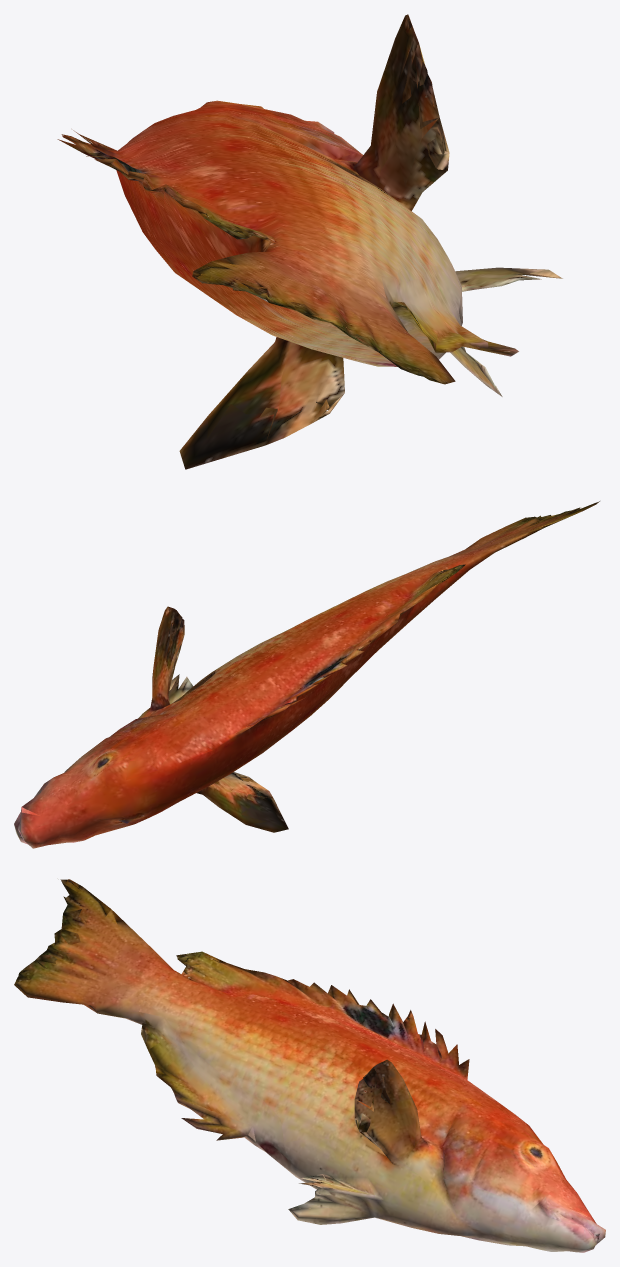
The model's file is wrasse.glb.
3 views of the same model, one above another, from view 1: azimuth 30°, elevation 25°; view 2: azimuth 150°, elevation 25°; view 3: azimuth 270°, elevation 25° (orthographic). The views are drawn at different scales.
Parts seen in each view (by area): view 1: wrasse_near; view 2: wrasse_near; view 3: wrasse_near.
Boxes of the visible parts, bbox=[...] form: wrasse_near: bbox=[57, 14, 562, 469]; wrasse_near: bbox=[14, 501, 599, 848]; wrasse_near: bbox=[14, 879, 605, 1252].
Bounding box in the file's own units: 0.1672 × 0.1232 × 0.2672.
1 material, 1 textured.
